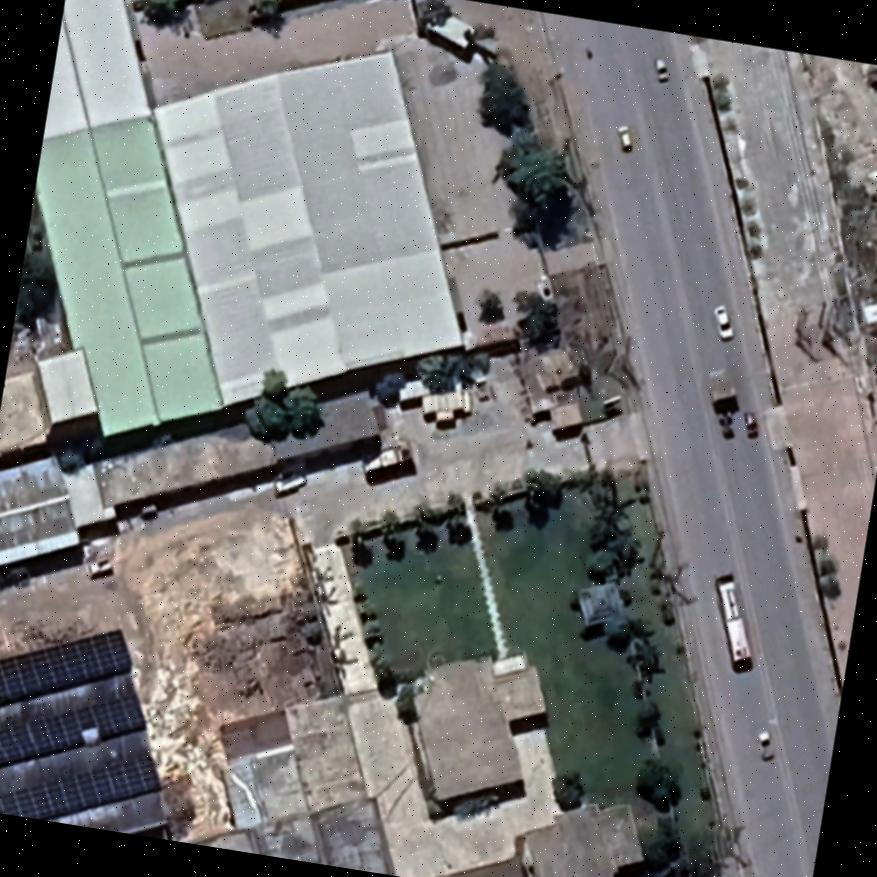Solarpanel: (0, 684, 151, 768), (0, 750, 169, 820), (0, 627, 134, 709)
